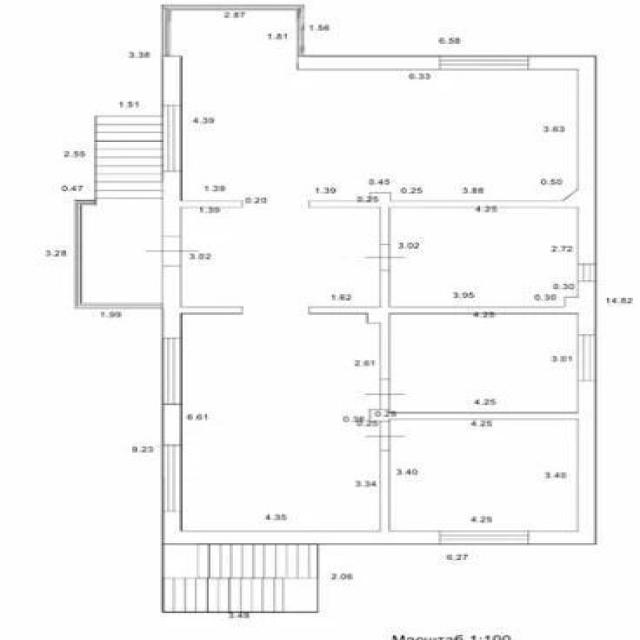Corridors: (183, 210, 379, 305), (85, 207, 161, 302), (173, 12, 296, 54)
Doors: (181, 55, 296, 71), (145, 236, 201, 265), (360, 420, 407, 452), (363, 379, 409, 408), (364, 244, 408, 271), (244, 305, 308, 315), (245, 200, 308, 210)
LBwalls: (528, 55, 597, 264), (529, 382, 597, 544), (161, 512, 439, 544), (297, 55, 440, 70), (564, 282, 597, 334), (161, 266, 182, 338), (162, 172, 183, 236), (162, 55, 182, 105), (162, 404, 183, 445), (367, 307, 389, 324), (369, 409, 391, 421), (369, 192, 391, 202)
Offices: (182, 71, 576, 201), (183, 315, 379, 530), (392, 421, 577, 531), (393, 208, 577, 306), (391, 315, 577, 410)
Stairs: (161, 543, 319, 614), (94, 114, 162, 206)
Walls: (308, 200, 565, 245), (73, 199, 164, 310), (160, 4, 305, 56), (390, 411, 578, 420), (390, 306, 564, 315), (380, 451, 391, 531), (182, 305, 244, 315), (380, 323, 390, 380), (181, 200, 244, 209), (308, 306, 368, 315), (379, 271, 390, 307)
Windows: (161, 337, 183, 405), (161, 445, 182, 512), (162, 105, 182, 172), (437, 530, 529, 544), (439, 56, 529, 70), (577, 334, 596, 382), (577, 263, 596, 282)
